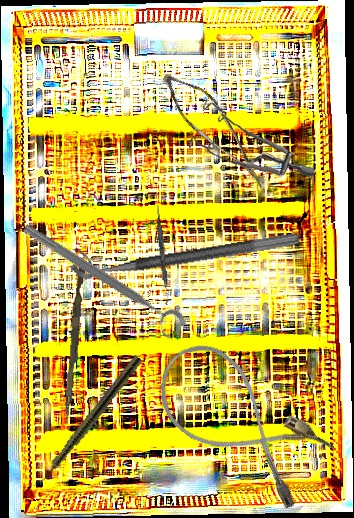Cannula: (140, 329, 341, 516)
Fixation Ring: (13, 218, 190, 345), (66, 214, 301, 282)
Handpiece: (31, 353, 144, 492)
Micro Scissor: (145, 66, 290, 190)
Pusher: (63, 264, 86, 426)
Spatula Surgical: (153, 204, 172, 306)
Speculum: (185, 91, 316, 187)
